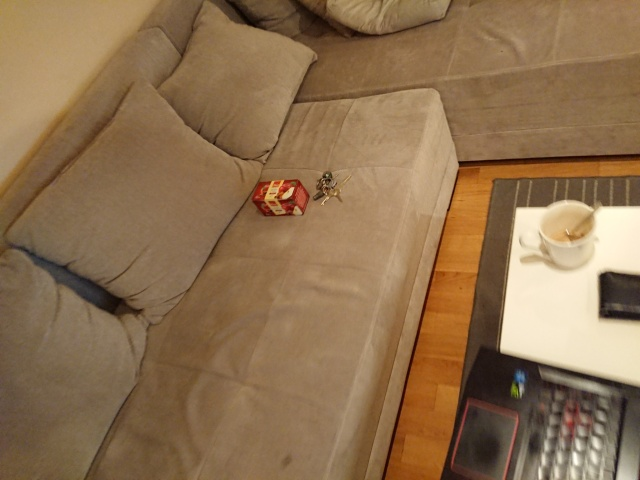Franck Apple Cinnamon Tea 60g: (249, 177, 311, 218)
